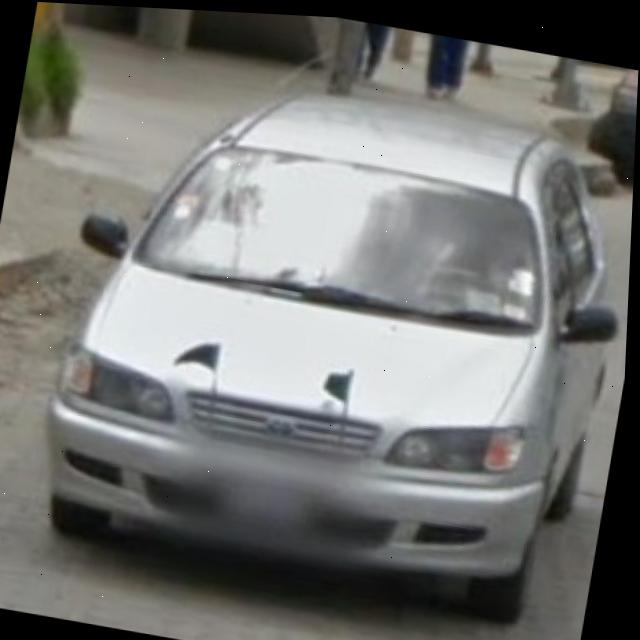vehicle: (93, 65, 638, 576)
